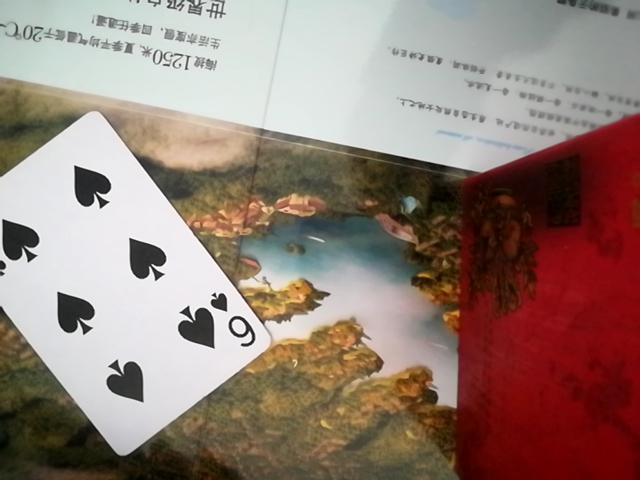ht 6: (5, 103, 271, 463)
